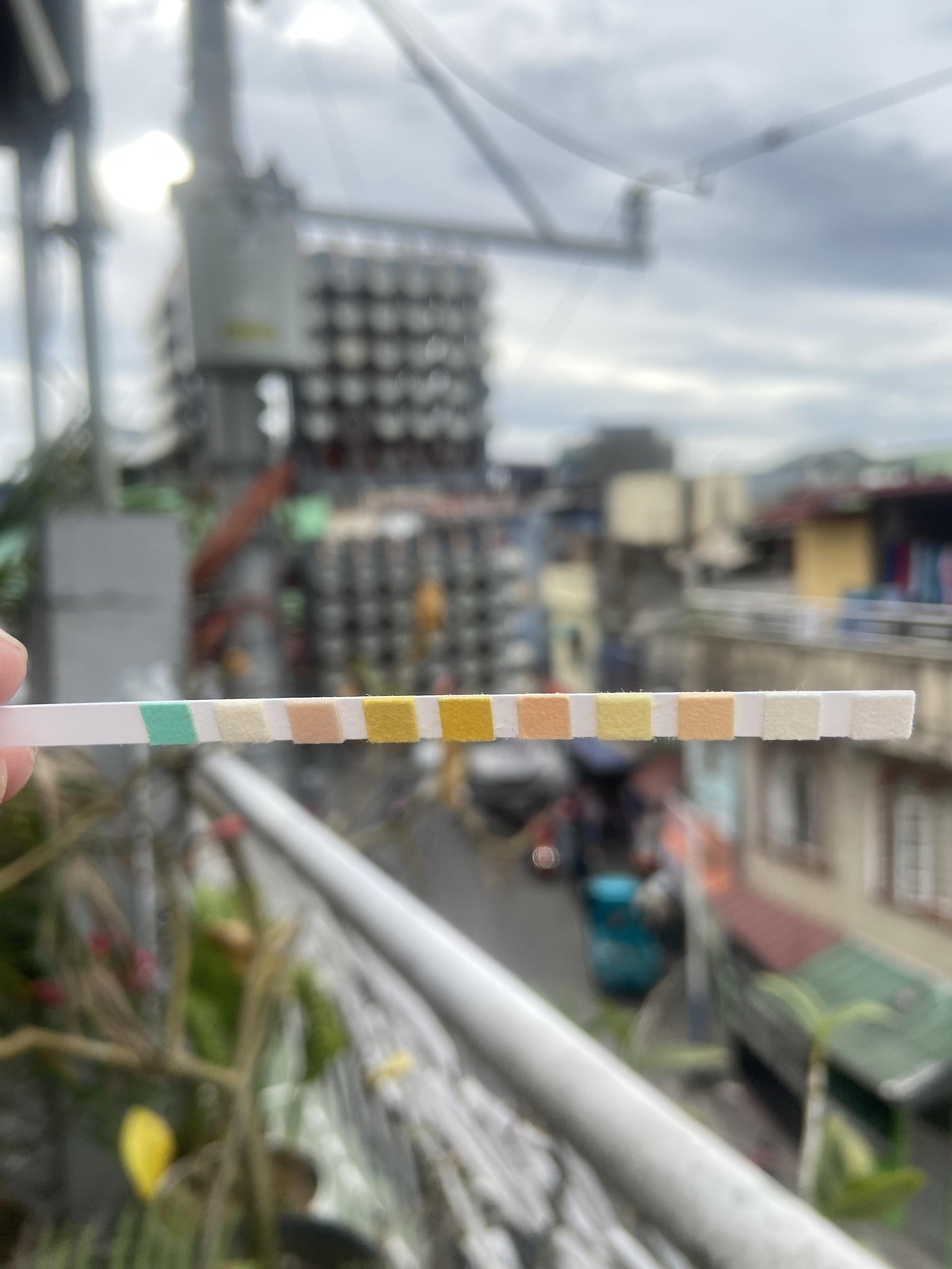Bilirubin: (224, 707, 264, 742)
Blood: (445, 700, 490, 739)
Glucose: (150, 705, 189, 743)
Ketone: (296, 704, 336, 743)
Leukocytes: (855, 698, 910, 737)
Nitrite: (764, 698, 819, 740)
Protein: (599, 698, 649, 738)
SpGravity: (369, 702, 413, 742)
Urobilinogen: (678, 698, 733, 740)
pH: (521, 698, 568, 738)
strip: (0, 691, 916, 746)
